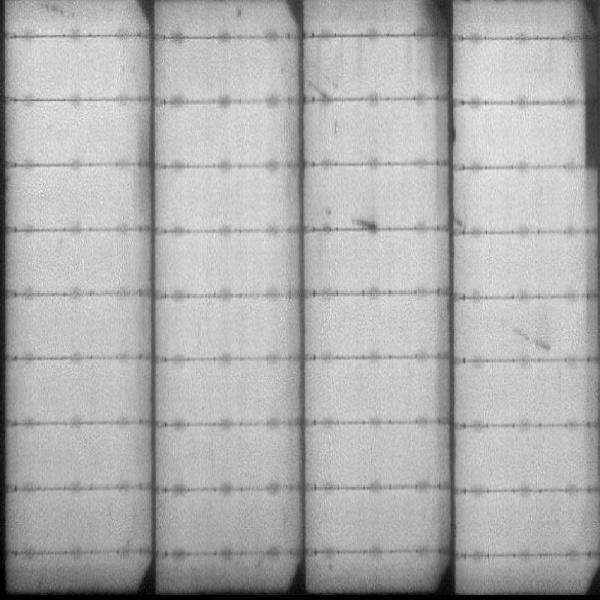black_border: (583, 30, 600, 174)
scratch: (514, 327, 561, 358), (307, 80, 334, 99)
